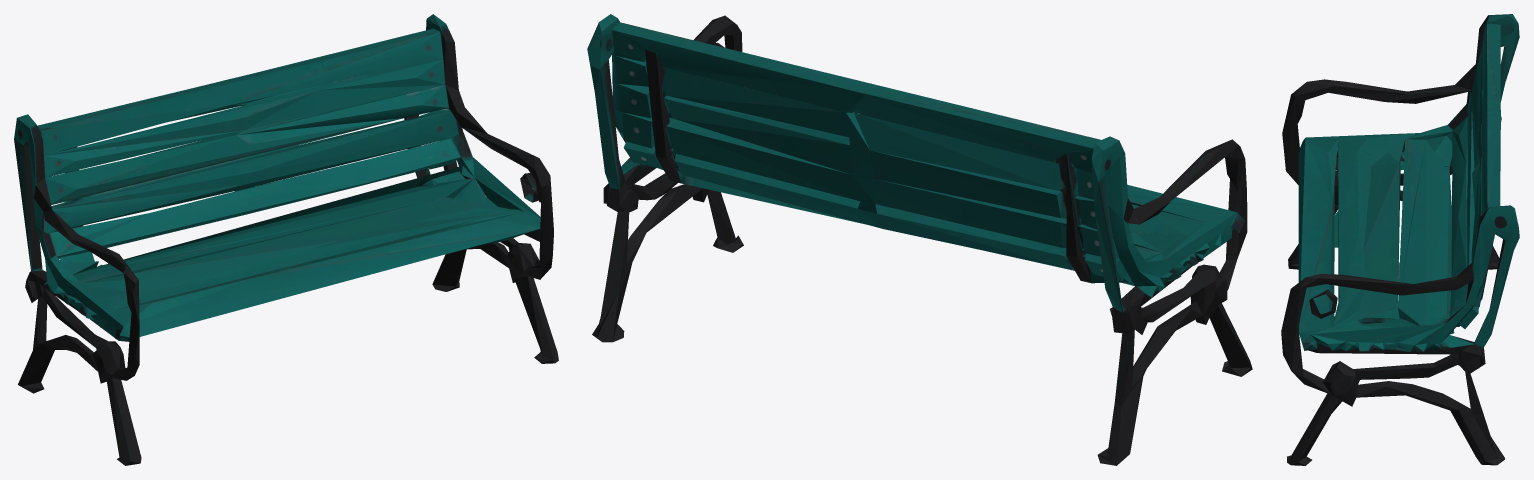
The model's file is bench.glb.
The picture shows the model from 3 angles, left to right: view 1: azimuth 30°, elevation 25°; view 2: azimuth 150°, elevation 25°; view 3: azimuth 270°, elevation 25°; orthographic projection. The views are drawn at different scales.
Size of the model in its own units: 1.8 by 1.04 by 0.8805.
1 material, 1 textured.
